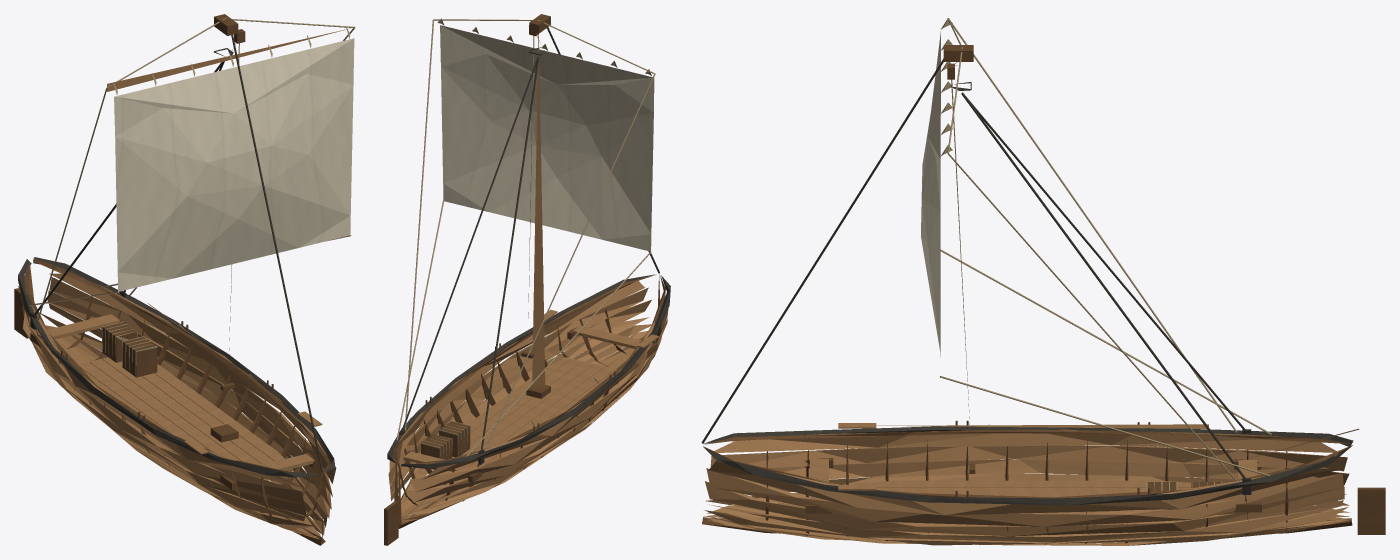
The model's file is ship_lod2.glb.
3 views of the same model, side by side, from view 1: azimuth 30°, elevation 25°; view 2: azimuth 150°, elevation 25°; view 3: azimuth 270°, elevation 25° (orthographic). The views are drawn at different scales.
Visible parts, largest first — view 1: lod2_square_sail, lod2_strake_port_07, lod2_strake_starboard_07, lod2_strake_port_08, lod2_strake_port_06, lod2_gunwale_1_001, lod2_strake_starboard_06, lod2_strake_port_05, lod2_gunwale_1, lod2_strake_starboard_08, lod2_sole_board_03, lod2_sole_board_04 (+18 smaller); view 2: lod2_square_sail, lod2_strake_port_07, lod2_mast, lod2_strake_port_08, lod2_strake_starboard_07, lod2_strake_port_06, lod2_gunwale_1_001, lod2_strake_starboard_06, lod2_gunwale_1, lod2_strake_port_05, lod2_sole_board_03, lod2_strake_starboard_08 (+24 smaller); view 3: lod2_strake_starboard_07, lod2_strake_port_07, lod2_strake_starboard_08, lod2_strake_port_06, lod2_strake_starboard_06, lod2_strake_port_08, lod2_strake_port_05, lod2_gunwale_1, lod2_square_sail, lod2_strake_port_04, lod2_gunwale_1_001, lod2_inwale_1_001 (+14 smaller).
Part boxes in pixels (x1,y1,x2,y2): lod2_square_sail: (114, 38, 354, 291); lod2_strake_port_07: (49, 277, 332, 496); lod2_strake_starboard_07: (21, 288, 304, 504); lod2_strake_port_08: (49, 273, 336, 483); lod2_strake_port_06: (47, 290, 331, 509); lod2_gunwale_1_001: (18, 259, 319, 477); lod2_strake_starboard_06: (22, 305, 306, 515); lod2_strake_port_05: (48, 303, 330, 518); lod2_gunwale_1: (33, 257, 335, 472); lod2_strake_starboard_08: (18, 286, 304, 488); lod2_sole_board_03: (90, 359, 260, 478); lod2_sole_board_04: (102, 357, 261, 465); lod2_square_sail: (440, 25, 654, 251); lod2_strake_port_07: (388, 287, 648, 485); lod2_mast: (532, 33, 545, 387); lod2_strake_port_08: (389, 281, 644, 471); lod2_strake_starboard_07: (410, 330, 658, 492); lod2_strake_port_06: (390, 299, 651, 496); lod2_gunwale_1_001: (401, 275, 670, 468); lod2_strake_starboard_06: (406, 309, 668, 502); lod2_gunwale_1: (387, 274, 655, 465); lod2_strake_port_05: (390, 317, 649, 500); lod2_sole_board_03: (466, 364, 604, 465); lod2_strake_starboard_08: (421, 320, 656, 479); lod2_strake_starboard_07: (710, 445, 1347, 471); lod2_strake_port_07: (706, 468, 1343, 526); lod2_strake_starboard_08: (714, 429, 1336, 452); lod2_strake_port_06: (705, 481, 1344, 536); lod2_strake_starboard_06: (756, 459, 1349, 485); lod2_strake_port_08: (709, 460, 1343, 515); lod2_strake_port_05: (709, 500, 1343, 542); lod2_gunwale_1: (703, 445, 1352, 505); lod2_square_sail: (921, 31, 940, 357); lod2_strake_port_04: (704, 507, 1348, 545); lod2_gunwale_1_001: (703, 426, 1353, 446); lod2_inwale_1_001: (704, 429, 1350, 444).
Size of the model in its own units: 3.22 by 5.52 by 6.87.
Materials: 7 (7 with a texture image).
